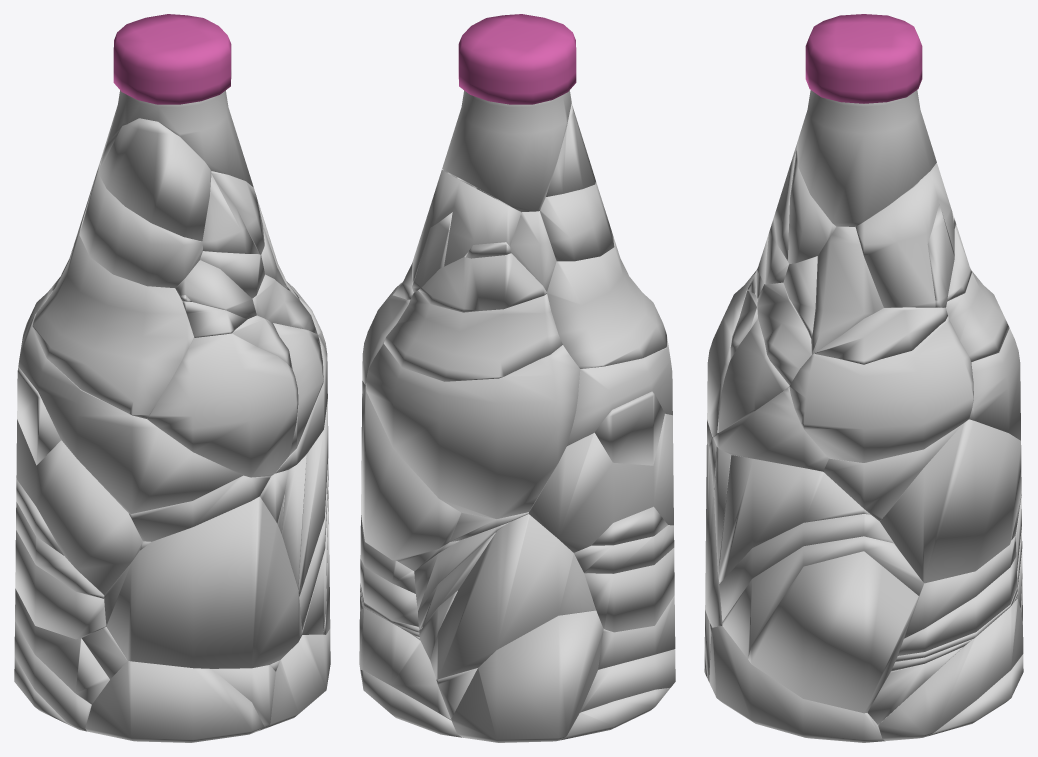
The model's file is Flasche broken.fbx.
3 renders of one model, left to right at view 1: azimuth 30°, elevation 25°; view 2: azimuth 150°, elevation 25°; view 3: azimuth 270°, elevation 25°, orthographic.
Visible parts, largest first — view 1: flasche broken.043, flasche broken.055, flasche broken.020, flasche broken.034, flasche broken.011, flasche broken.066, flasche broken.007, flasche broken, flasche broken.029, flasche broken.028, flasche broken.019, flasche broken.079 (+24 smaller); view 2: flasche broken.004, flasche broken.037, flasche broken.067, flasche broken.001, flasche broken.028, flasche broken.066, flasche broken.055, flasche broken, flasche broken.039, flasche broken.042, flasche broken.013, flasche broken.034 (+22 smaller); view 3: flasche broken.040, flasche broken.065, flasche broken.039, flasche broken.028, flasche broken, flasche broken.070, flasche broken.013, flasche broken.079, flasche broken.038, flasche broken.033, flasche broken.017, flasche broken.018 (+23 smaller).
Boxes of the visible parts, <box> form: flasche broken.043: <box>104,496,302,668</box>; flasche broken.055: <box>32,225,194,418</box>; flasche broken.020: <box>147,333,298,477</box>; flasche broken.034: <box>18,315,242,513</box>; flasche broken.011: <box>85,661,264,742</box>; flasche broken.066: <box>16,419,142,595</box>; flasche broken.007: <box>98,118,211,241</box>; flasche broken: <box>113,14,231,104</box>; flasche broken.029: <box>79,165,202,287</box>; flasche broken.028: <box>97,90,253,187</box>; flasche broken.019: <box>15,530,106,639</box>; flasche broken.079: <box>266,629,330,728</box>; flasche broken.004: <box>366,344,580,518</box>; flasche broken.037: <box>430,514,595,679</box>; flasche broken.067: <box>451,610,603,742</box>; flasche broken.001: <box>384,290,562,381</box>; flasche broken.028: <box>442,90,571,212</box>; flasche broken.066: <box>529,413,673,553</box>; flasche broken.055: <box>547,235,666,368</box>; flasche broken: <box>458,14,576,104</box>; flasche broken.039: <box>361,386,461,560</box>; flasche broken.042: <box>418,253,546,312</box>; flasche broken.013: <box>412,170,521,282</box>; flasche broken.034: <box>567,337,672,445</box>; flasche broken.040: <box>748,551,918,713</box>; flasche broken.065: <box>789,316,973,462</box>; flasche broken.039: <box>880,419,1021,583</box>; flasche broken.028: <box>797,90,936,226</box>; flasche broken: <box>805,14,922,103</box>; flasche broken.070: <box>718,455,870,583</box>; flasche broken.013: <box>855,163,954,307</box>; flasche broken.079: <box>709,626,885,742</box>; flasche broken.038: <box>878,599,1023,740</box>; flasche broken.033: <box>722,536,923,658</box>; flasche broken.017: <box>811,226,883,354</box>; flasche broken.018: <box>713,387,828,471</box>.
Bounding box in the file's own units: 3.35 × 7.51 × 3.35.
